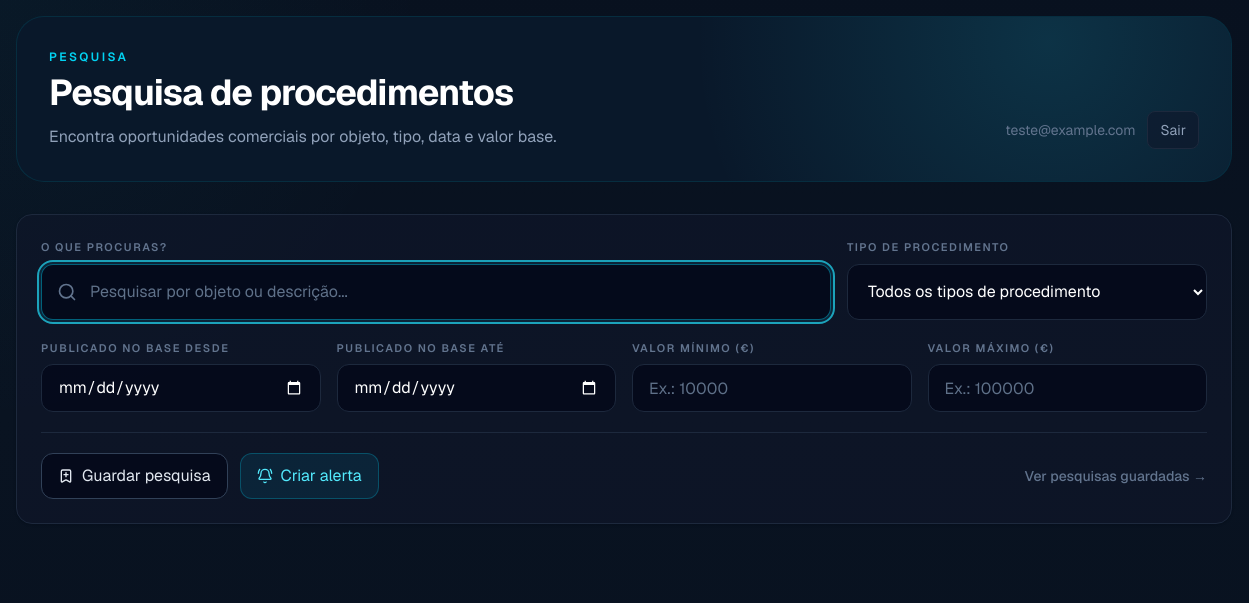
Scenario: PesquisaPage › não guarda uma pesquisa sem filtros
This screenshot has width=1249, height=603.
Click the button "Guardar pesquisa" at {"x": 134, "y": 476}, box [41,453,228,499]
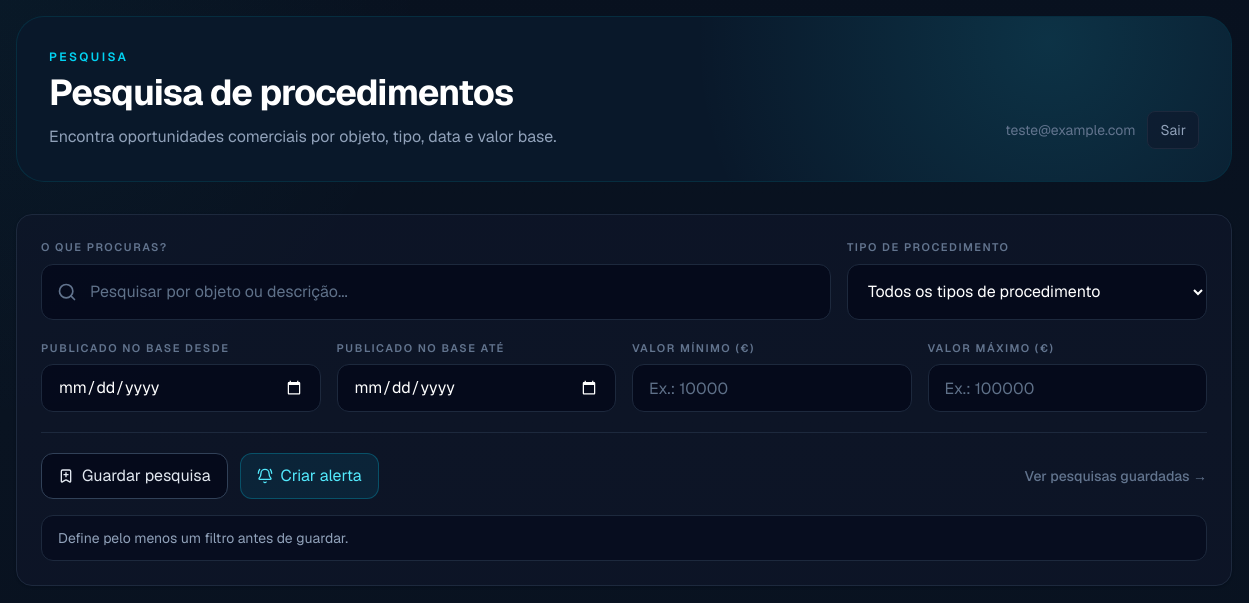
Expected: the text "Define pelo menos um filtro antes de guardar." is shown, [58,528,348,548]
